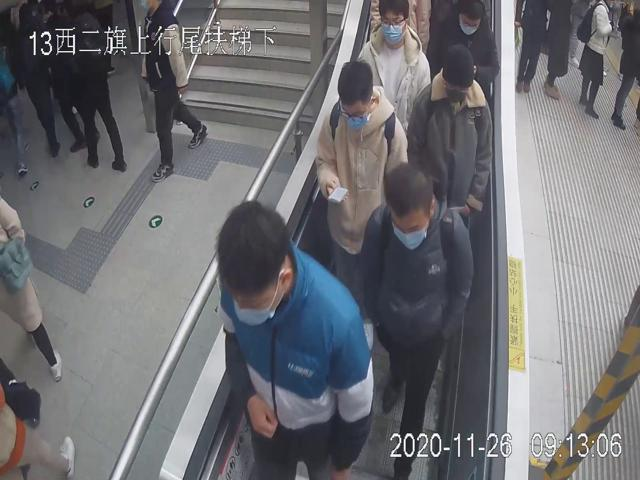person: (215, 199, 374, 480), (355, 164, 474, 480), (316, 60, 410, 301), (407, 42, 491, 228), (355, 0, 432, 137), (431, 0, 500, 97)
